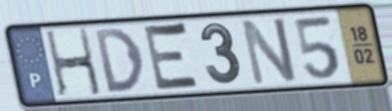3: (198, 20, 243, 88)
5: (291, 13, 343, 82)
D: (91, 25, 147, 96)
E: (141, 20, 203, 94)
H: (42, 26, 105, 100)
N: (238, 15, 300, 89)
